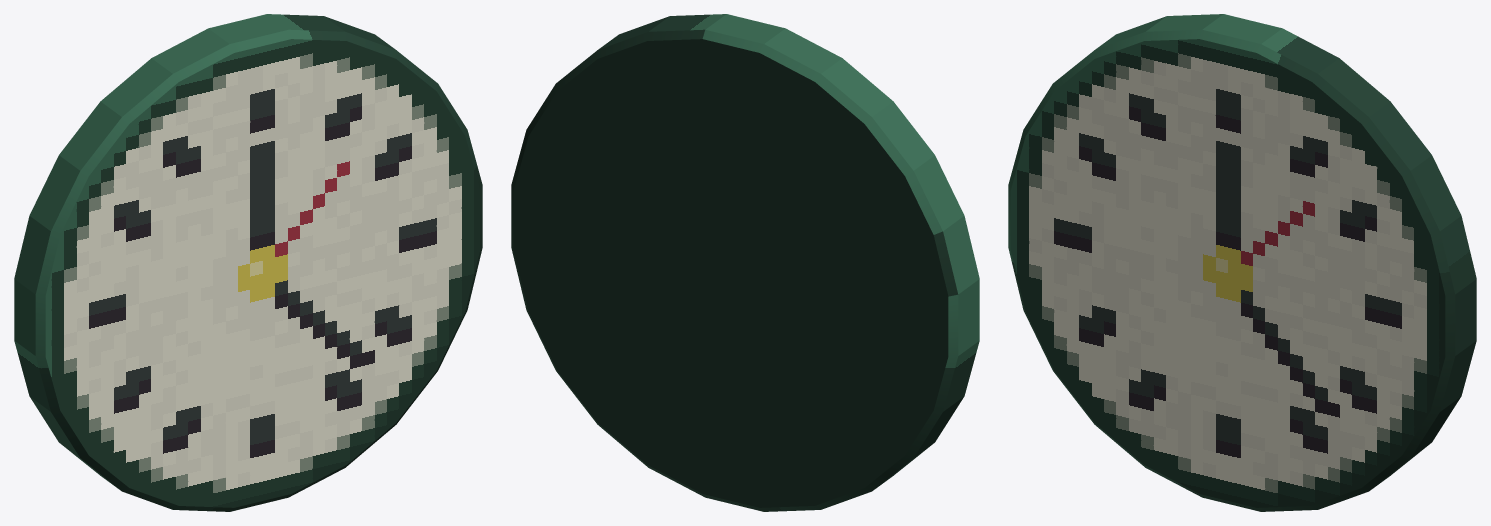
File: prop_item_clock_01.glb
3 renders of one model, left to right at view 1: azimuth 30°, elevation 25°; view 2: azimuth 150°, elevation 25°; view 3: azimuth 330°, elevation 25°, orthographic.
Visible parts, largest first — view 1: entity0_brush0; view 2: entity0_brush0; view 3: entity0_brush0.
Part boxes in pixels (left/top/right/bottom): entity0_brush0: left=14, top=14, right=482, bottom=511; entity0_brush0: left=511, top=14, right=979, bottom=511; entity0_brush0: left=1008, top=14, right=1476, bottom=511.
Bounding box in the file's own units: 36 × 36 × 4.
Materials: 2 (2 with a texture image).
